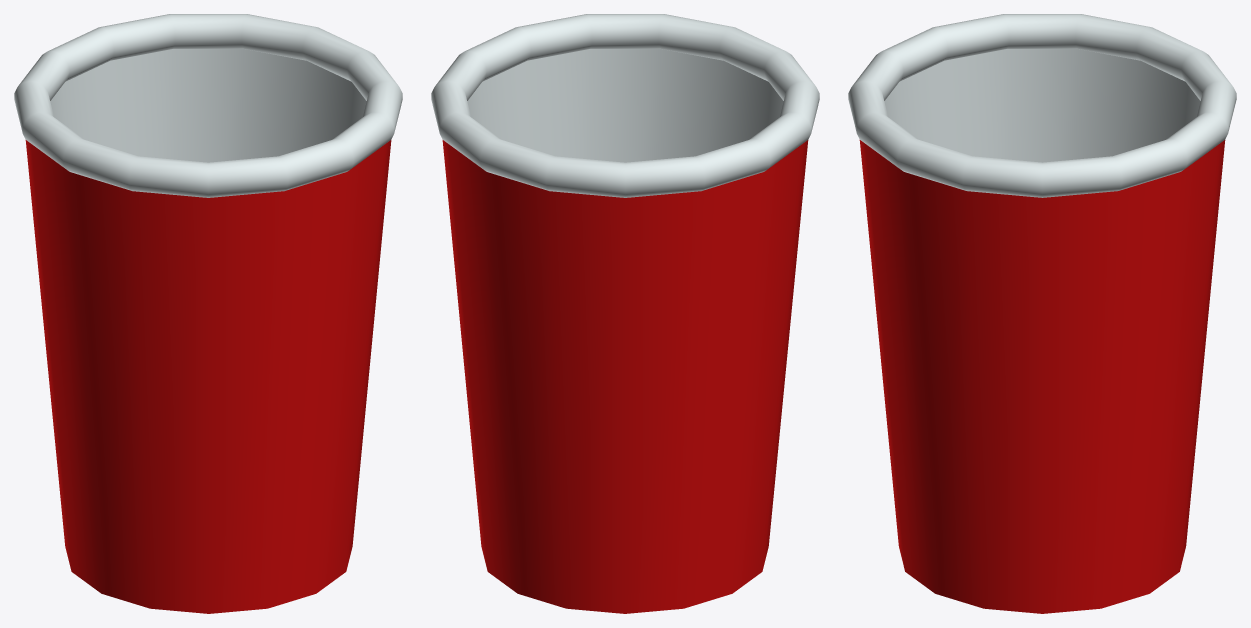
File: Cup_Mesh_001.fbx
3 views of the same model, side by side, from view 1: azimuth 30°, elevation 25°; view 2: azimuth 150°, elevation 25°; view 3: azimuth 270°, elevation 25° (orthographic).
Visible parts, largest first — view 1: Cup_Mesh_001; view 2: Cup_Mesh_001; view 3: Cup_Mesh_001.
Part boxes in pixels (bbox=[...]): Cup_Mesh_001: bbox=[14, 14, 402, 613]; Cup_Mesh_001: bbox=[431, 14, 819, 613]; Cup_Mesh_001: bbox=[848, 14, 1236, 613].
Size of the model in its own units: 18.4 by 24.39 by 18.5.
